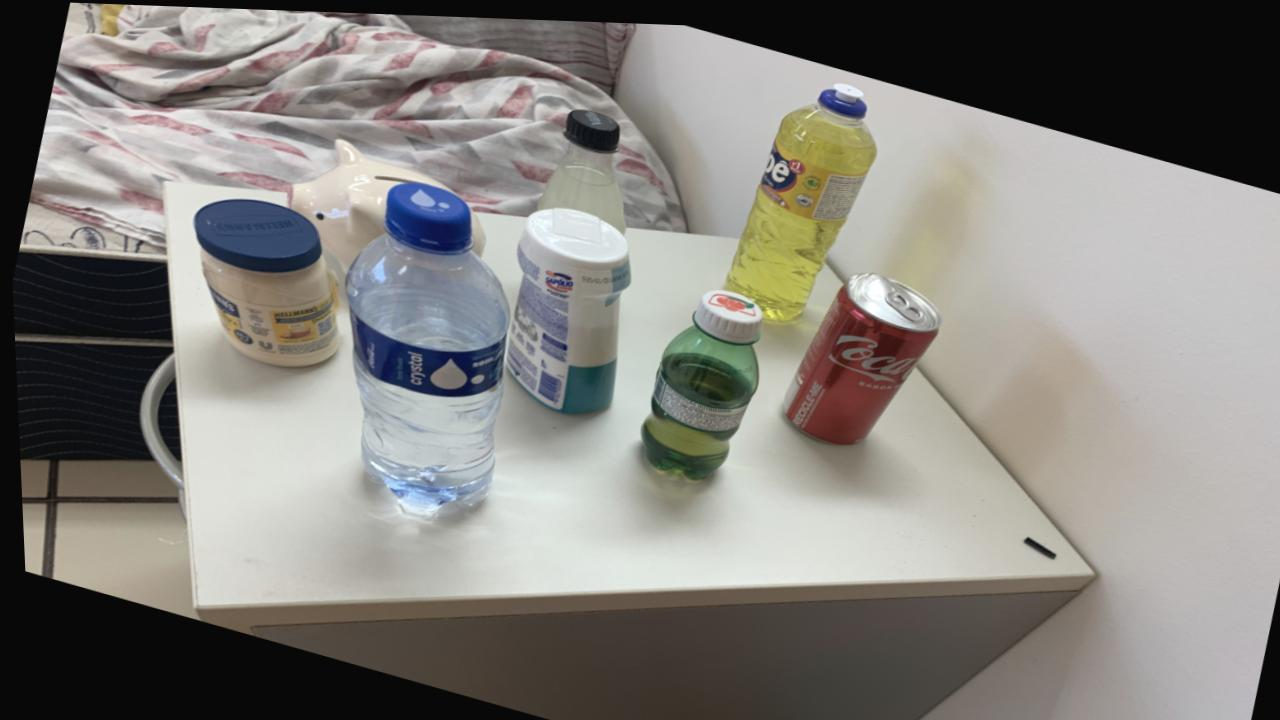Cleaner-Cleanup_Items: (502, 204, 630, 409)
Coke-Drinks: (779, 267, 937, 439)
Detergent-Cleanup_Items: (723, 77, 876, 316)
Guarana-Drinks: (637, 284, 761, 475)
Mayonnaise-Pantry_Items: (191, 196, 338, 365)
Pig_Safe-Miscellaneous: (285, 137, 448, 268)
Soda-Drinks: (535, 105, 624, 228)
Water_Bottle-Drinks: (344, 179, 507, 508)
